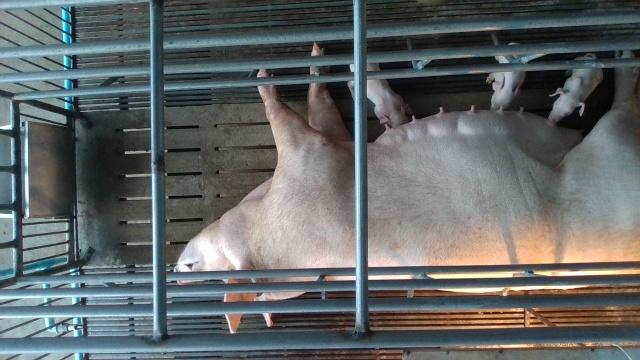piglet: (349, 64, 411, 128), (548, 53, 602, 122), (486, 42, 526, 110)
sow-sleep-lactate: (175, 43, 640, 333)
